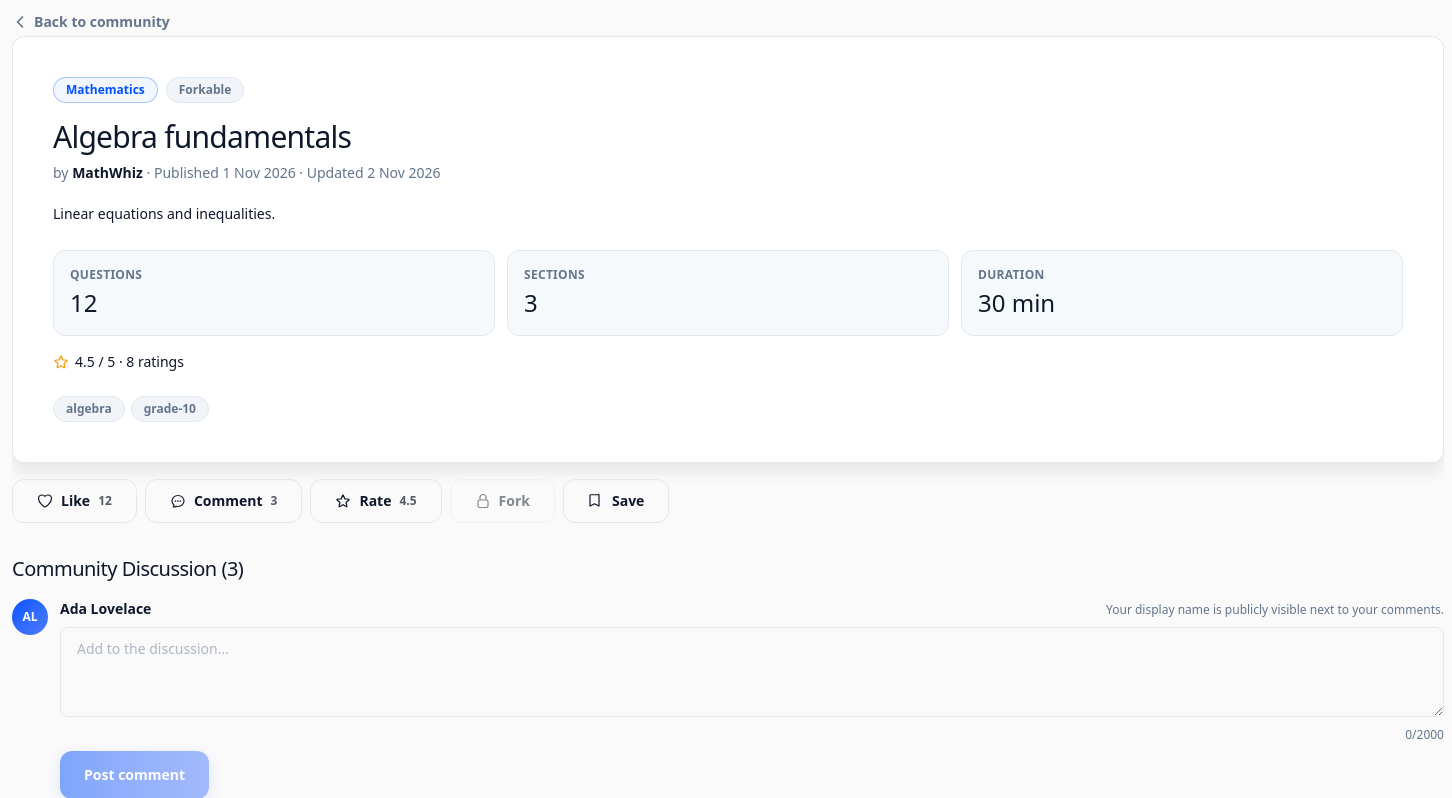
Test case: community publication detail page — save/unsave toggle (#46) › surfaces the network copy when offline
What coordinates should you click on to do the following:
click the button "Save"
I would click on:
 (616, 501)
Its box is left=563, top=479, right=669, bottom=523.
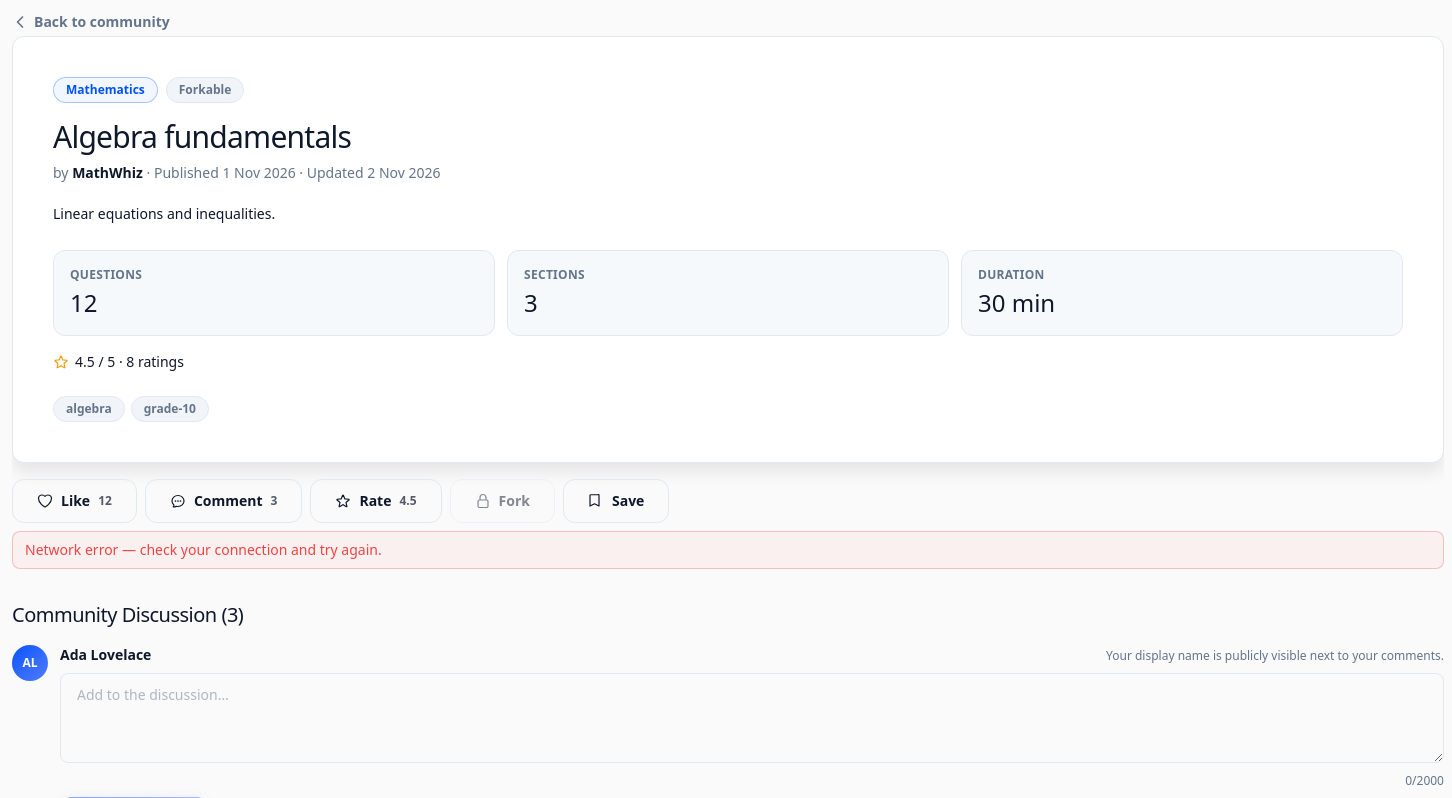
expect the message shows "Network error": met, box left=25, top=540, right=382, bottom=559
